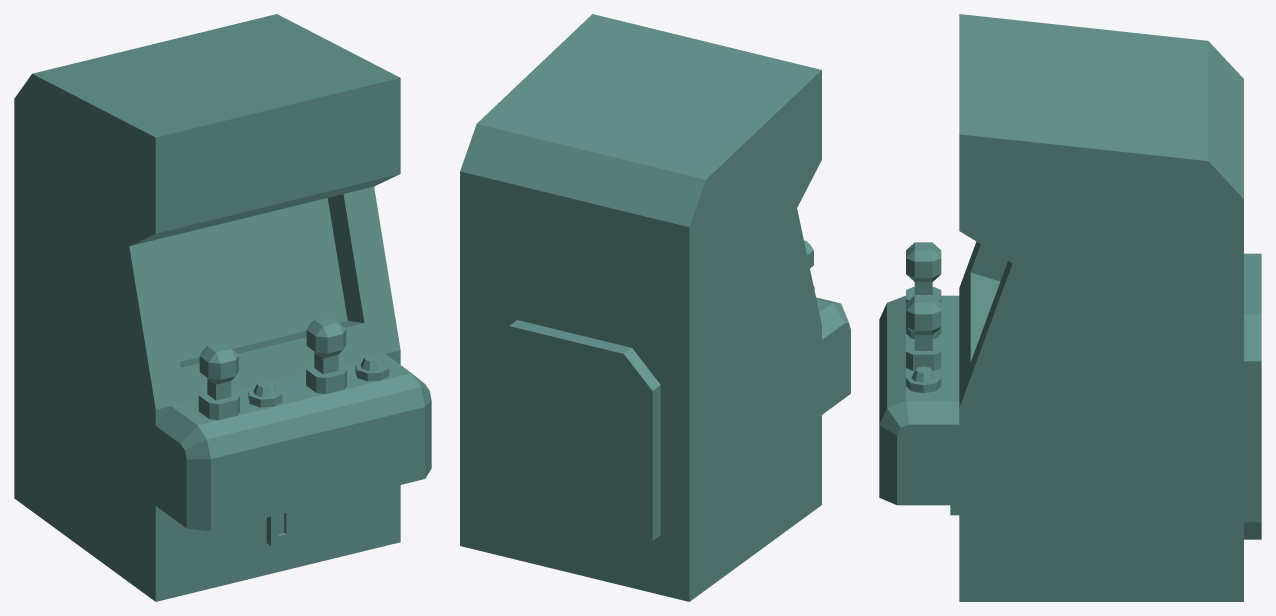
The model's file is arcade-machine.obj.
The picture shows the model from 3 angles, left to right: view 1: azimuth 30°, elevation 25°; view 2: azimuth 150°, elevation 25°; view 3: azimuth 270°, elevation 25°; orthographic projection. The views are drawn at different scales.
Size of the model in its own units: 0.4 by 0.725 by 0.5375.
